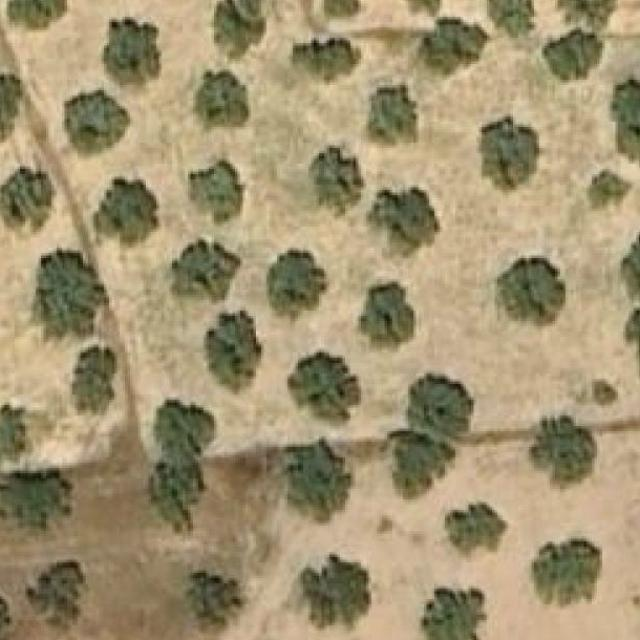Tree: (31, 250, 109, 342), (287, 350, 361, 427), (366, 187, 440, 258), (94, 177, 160, 251), (25, 560, 88, 637), (266, 251, 332, 324), (0, 470, 76, 531), (498, 258, 566, 326), (301, 555, 369, 623), (207, 308, 262, 392), (478, 116, 540, 190), (65, 90, 133, 156), (286, 442, 352, 510), (146, 397, 217, 458), (172, 240, 240, 303), (434, 503, 508, 560), (536, 418, 597, 486), (149, 463, 207, 534), (411, 20, 490, 72), (193, 70, 251, 136), (312, 143, 364, 216), (0, 167, 55, 235), (534, 539, 600, 595), (408, 376, 466, 439), (104, 17, 159, 83), (390, 434, 446, 498), (70, 344, 118, 416), (361, 282, 413, 348), (421, 588, 484, 640), (191, 162, 243, 224), (186, 571, 241, 628), (368, 82, 419, 143), (212, 0, 264, 59), (303, 38, 361, 85), (548, 31, 603, 78), (612, 80, 640, 167), (487, 0, 534, 41), (586, 171, 632, 211), (6, 0, 66, 29), (0, 402, 28, 463), (0, 71, 23, 143), (555, 0, 611, 22), (625, 303, 640, 380), (623, 235, 640, 301), (0, 580, 12, 640), (403, 0, 443, 17), (324, 0, 361, 17), (595, 382, 616, 406)
